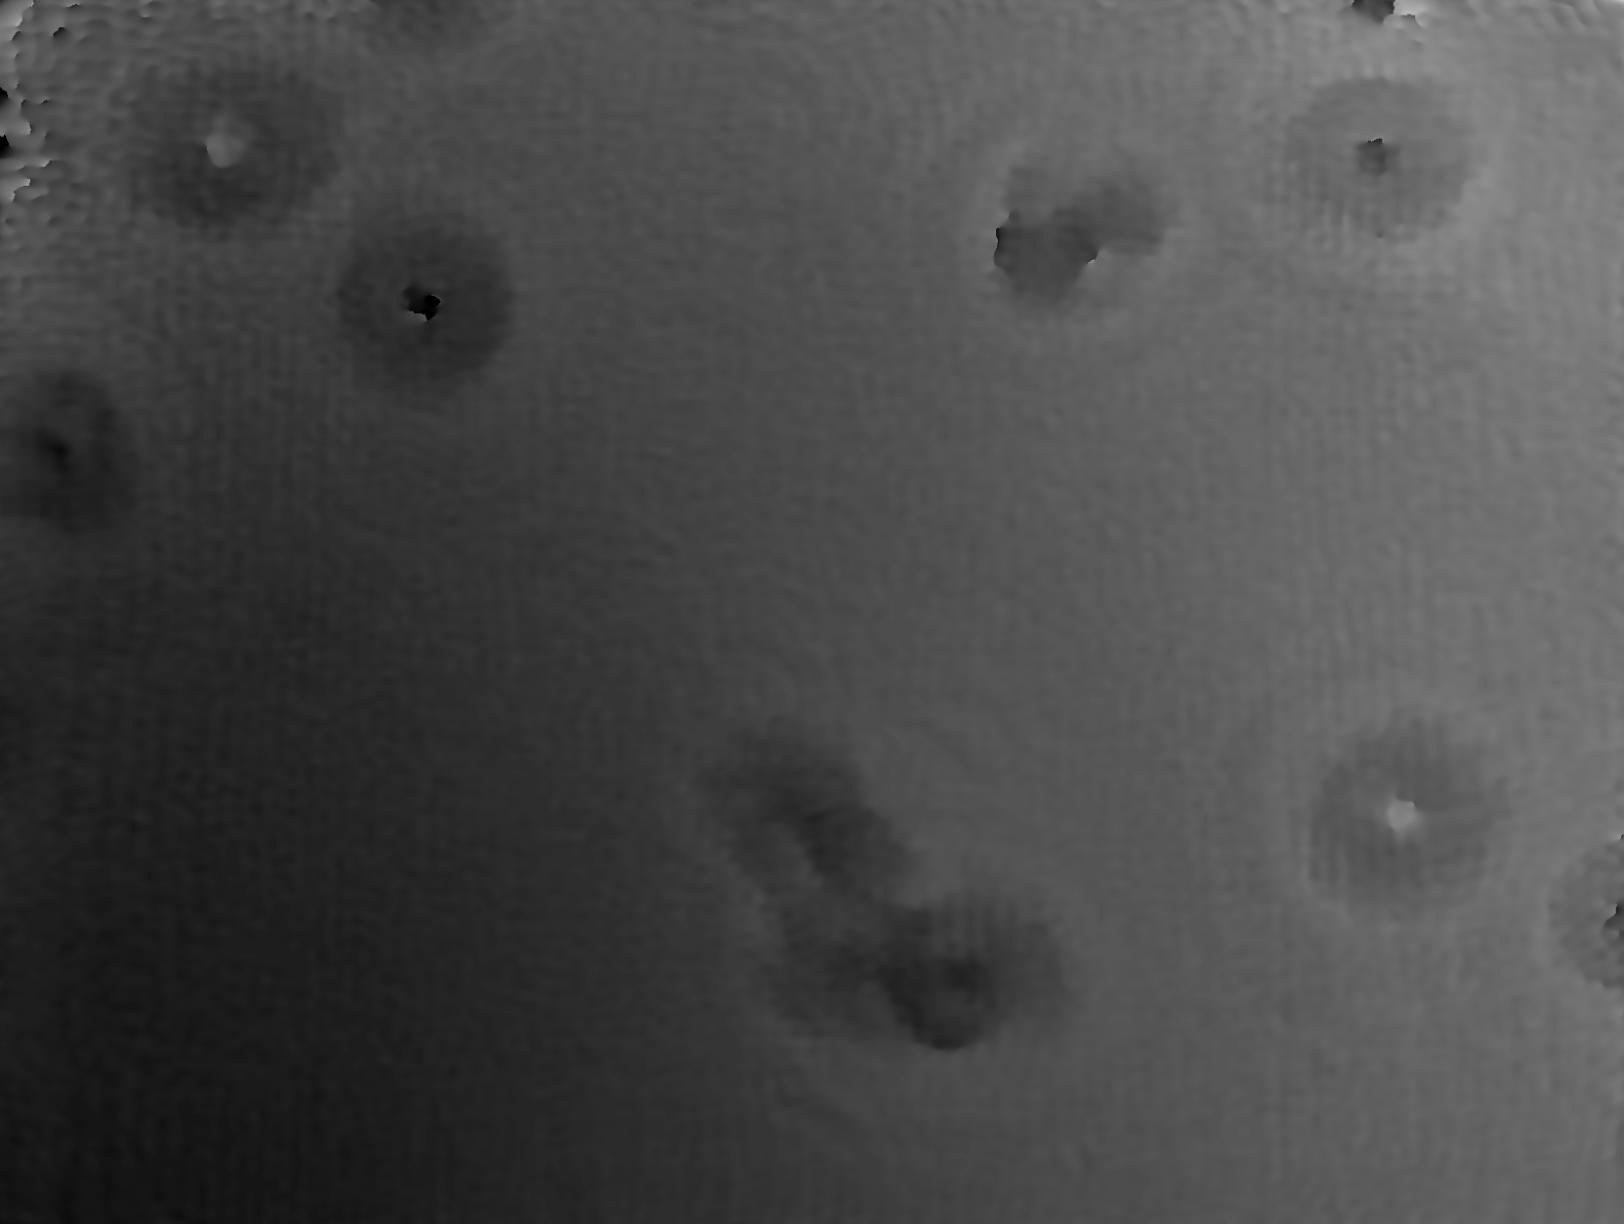cell: (954, 112, 1213, 354), (1249, 50, 1513, 276), (1288, 696, 1530, 933), (838, 865, 1080, 1083), (312, 190, 535, 422), (687, 726, 925, 937), (109, 48, 357, 247), (1, 338, 152, 564)
